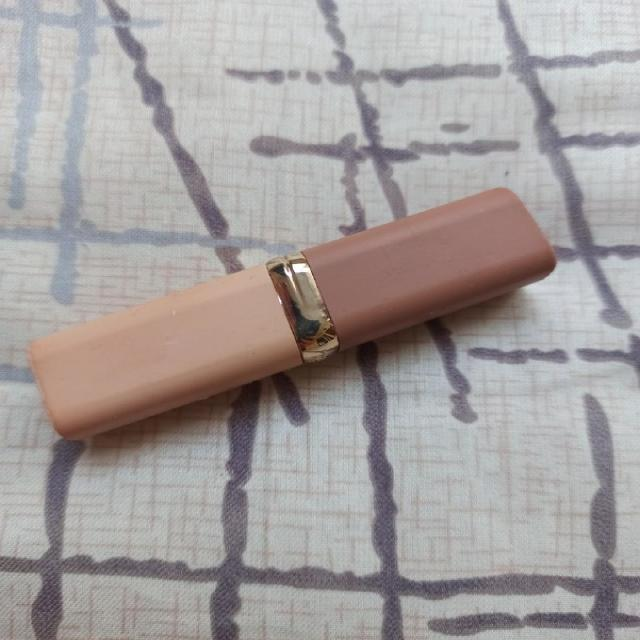lipstick: (25, 186, 557, 440)
